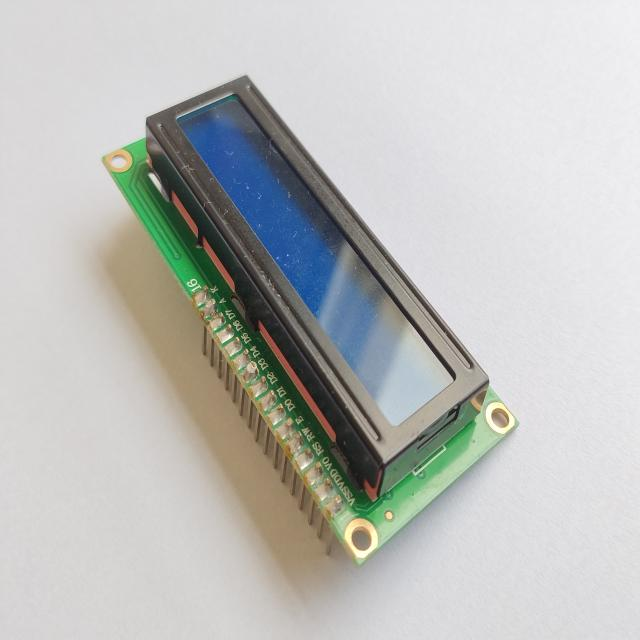lcd: (144, 72, 491, 503)
